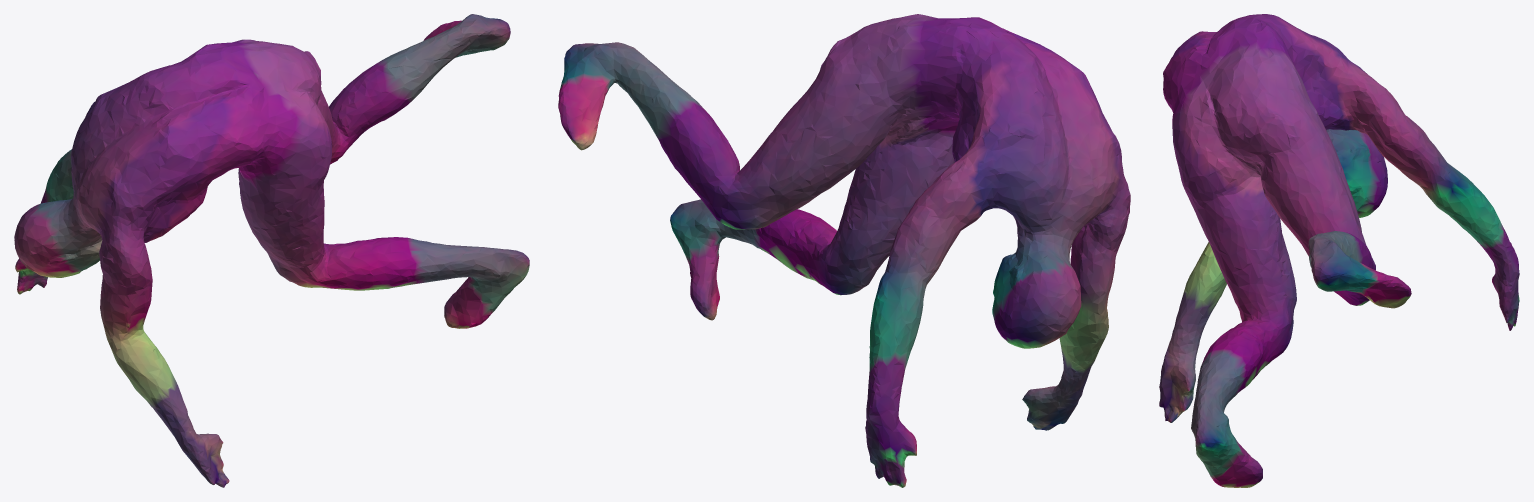
File: man-6.off.obj
3 renders of one model, left to right at view 1: azimuth 30°, elevation 25°; view 2: azimuth 150°, elevation 25°; view 3: azimuth 270°, elevation 25°, orthographic. The views are drawn at different scales.
Bounding box in the file's own units: 1.42 × 1.14 × 0.9011.
